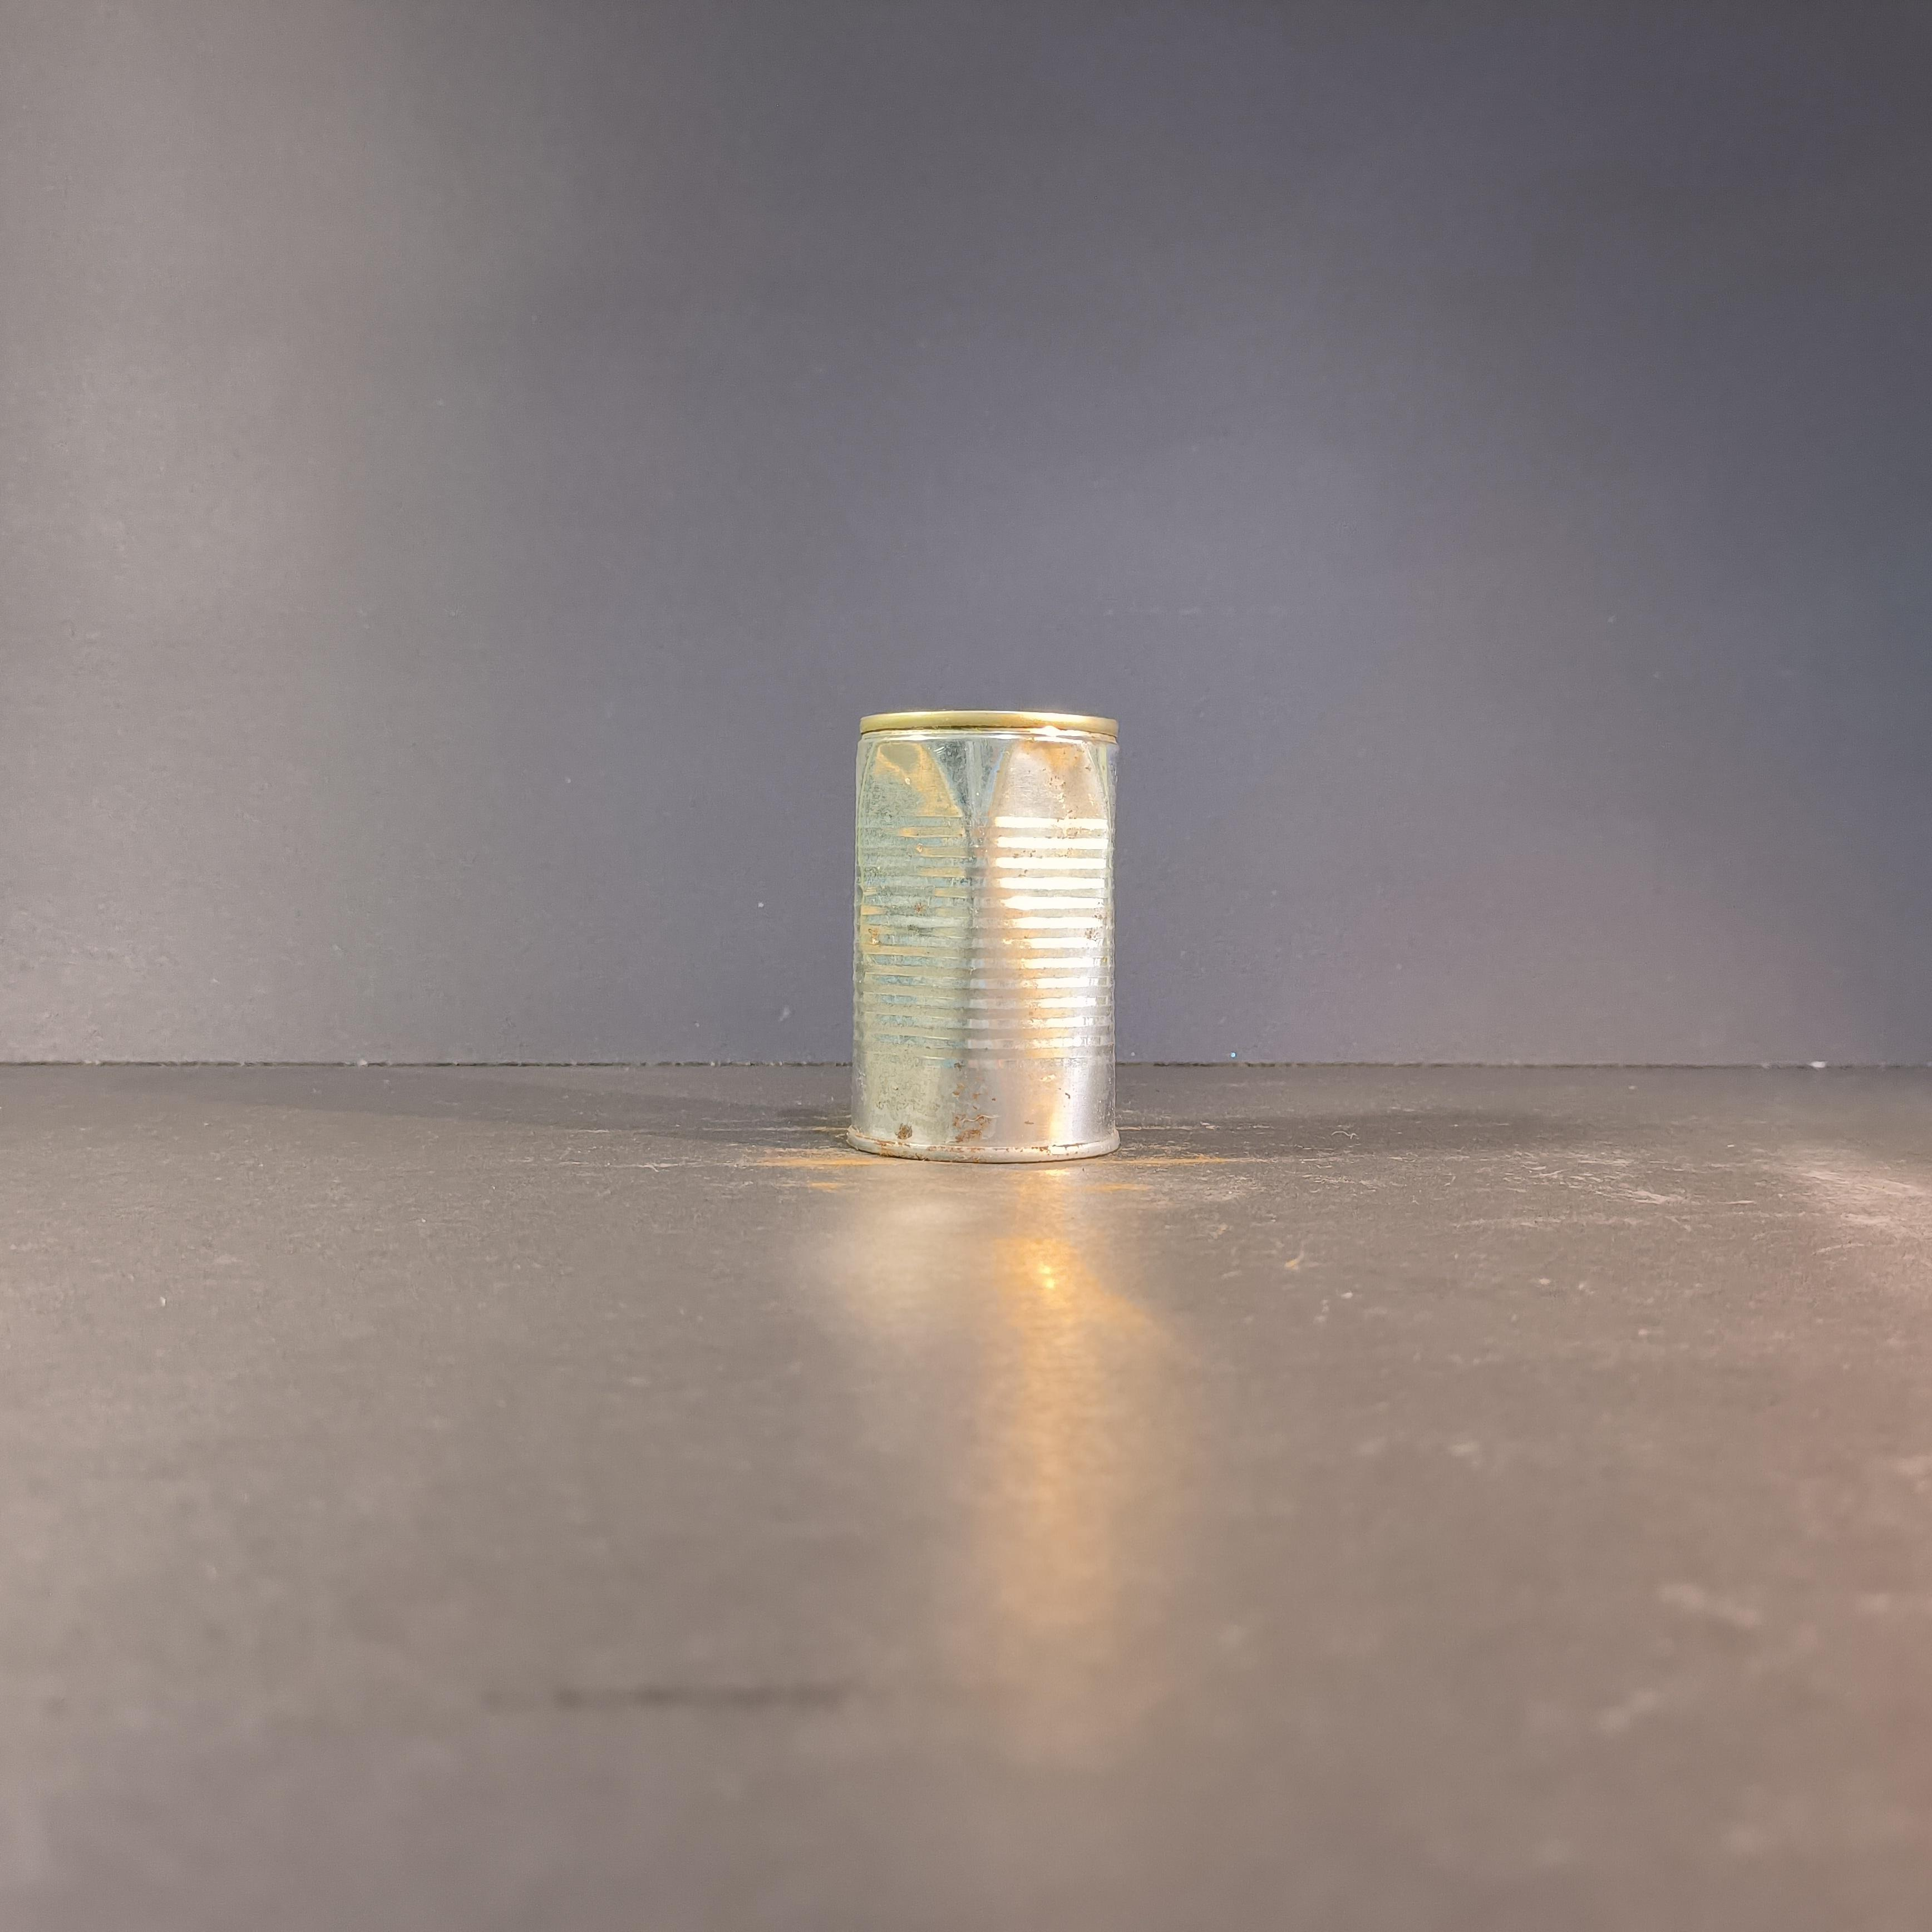Dented: (817, 685, 1161, 1175)
